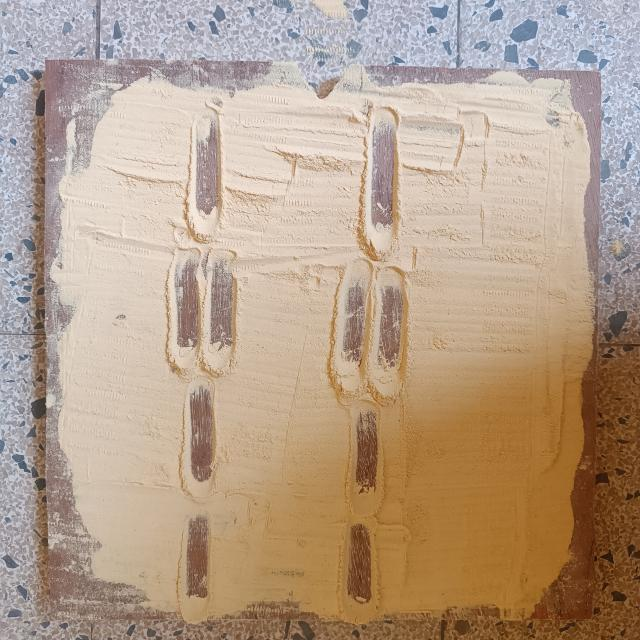double: (327, 260, 412, 400), (164, 245, 242, 379)
single: (358, 102, 406, 258), (182, 100, 228, 241), (334, 513, 388, 627), (176, 376, 222, 504), (346, 398, 388, 520), (176, 504, 216, 626)
